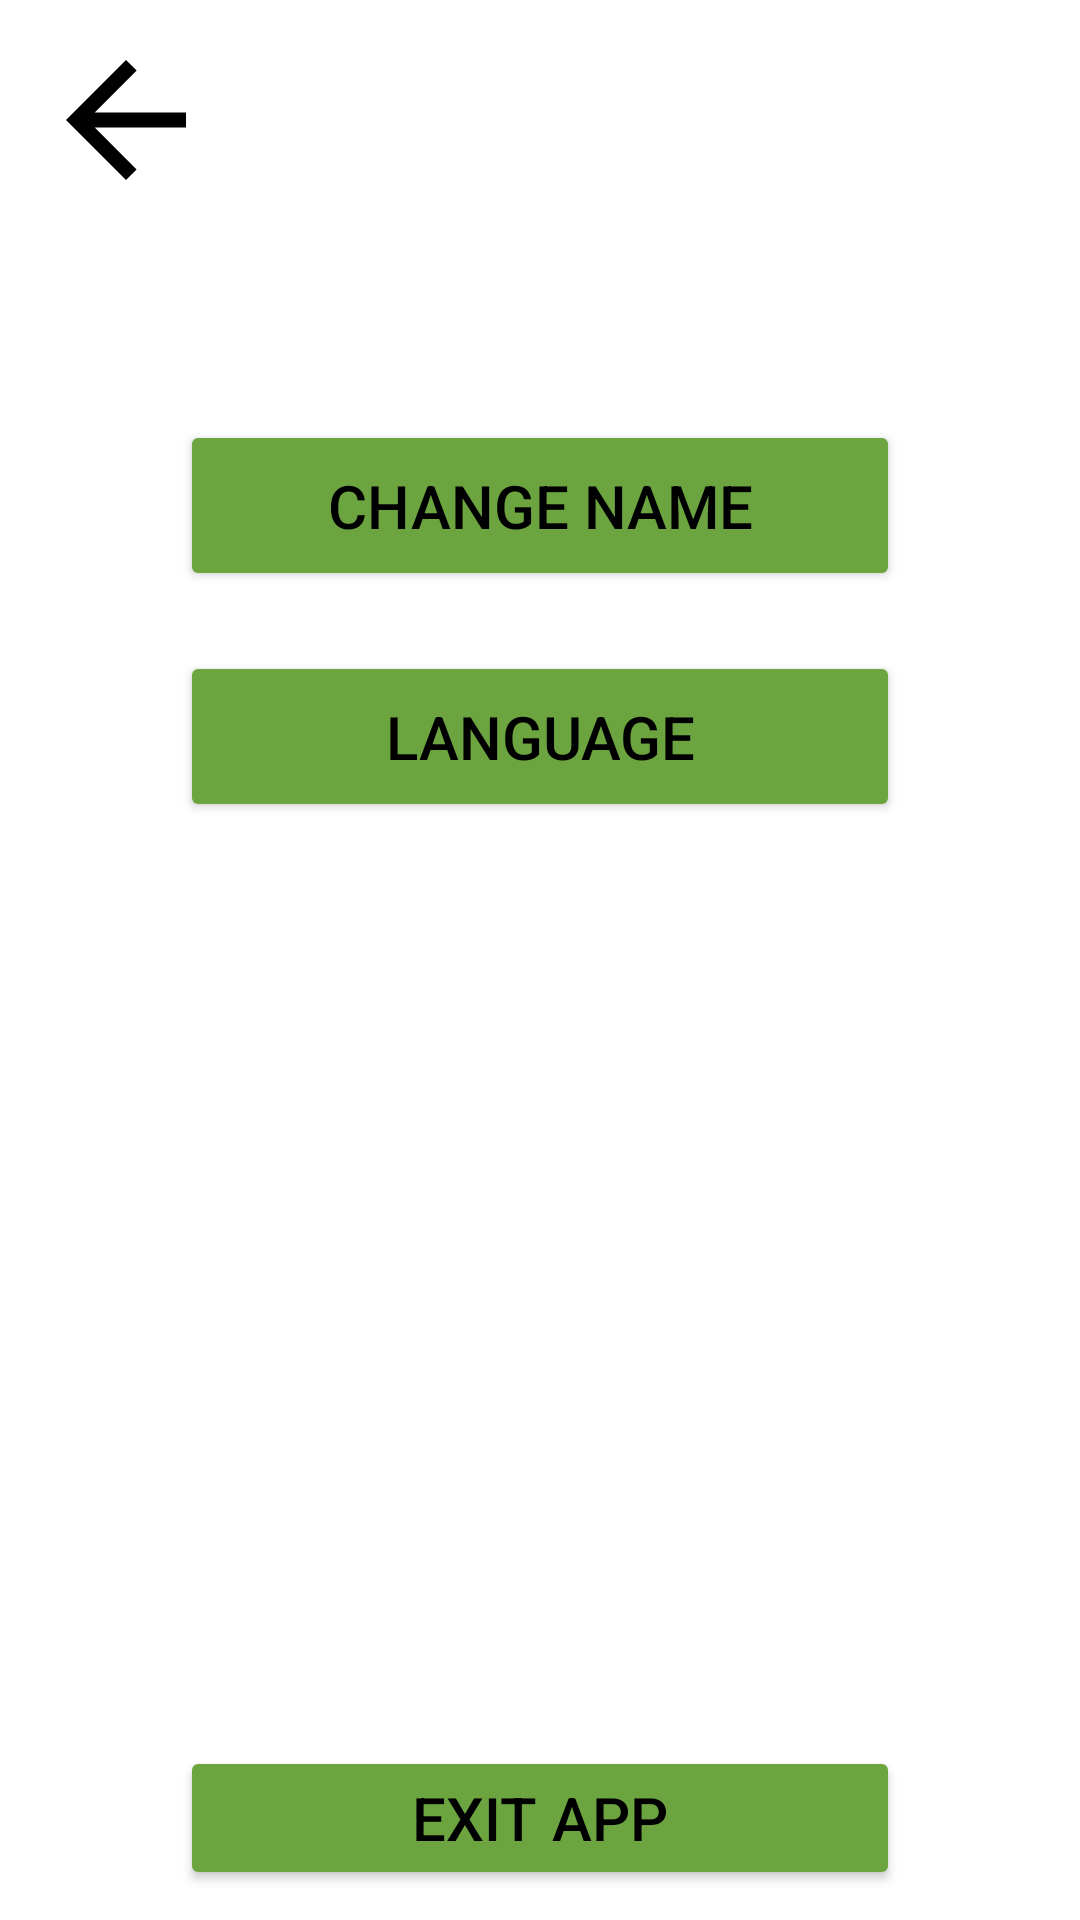

Icon click points for this 1080 x 1920 phone screenshot, format point (x, y):
back sett: point (126, 120)
